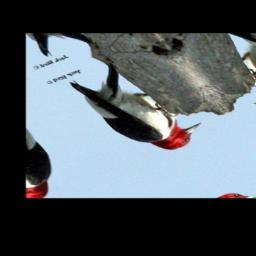Woodpecker: (65, 53, 216, 164)
